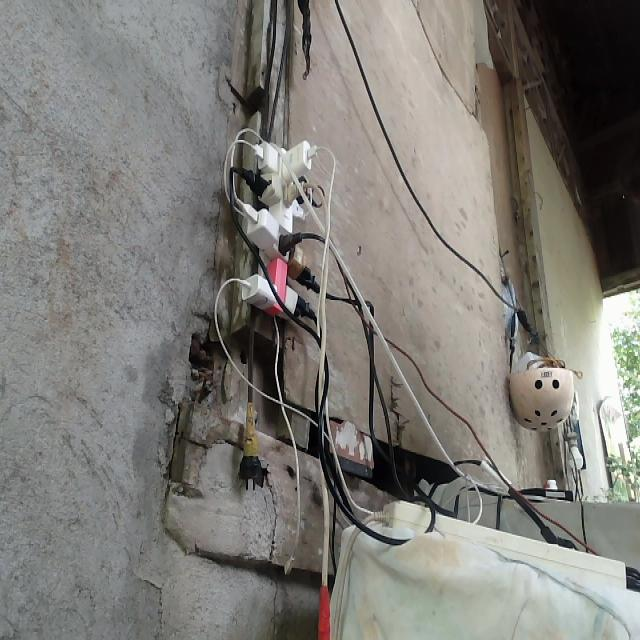-: (234, 132, 326, 321)
